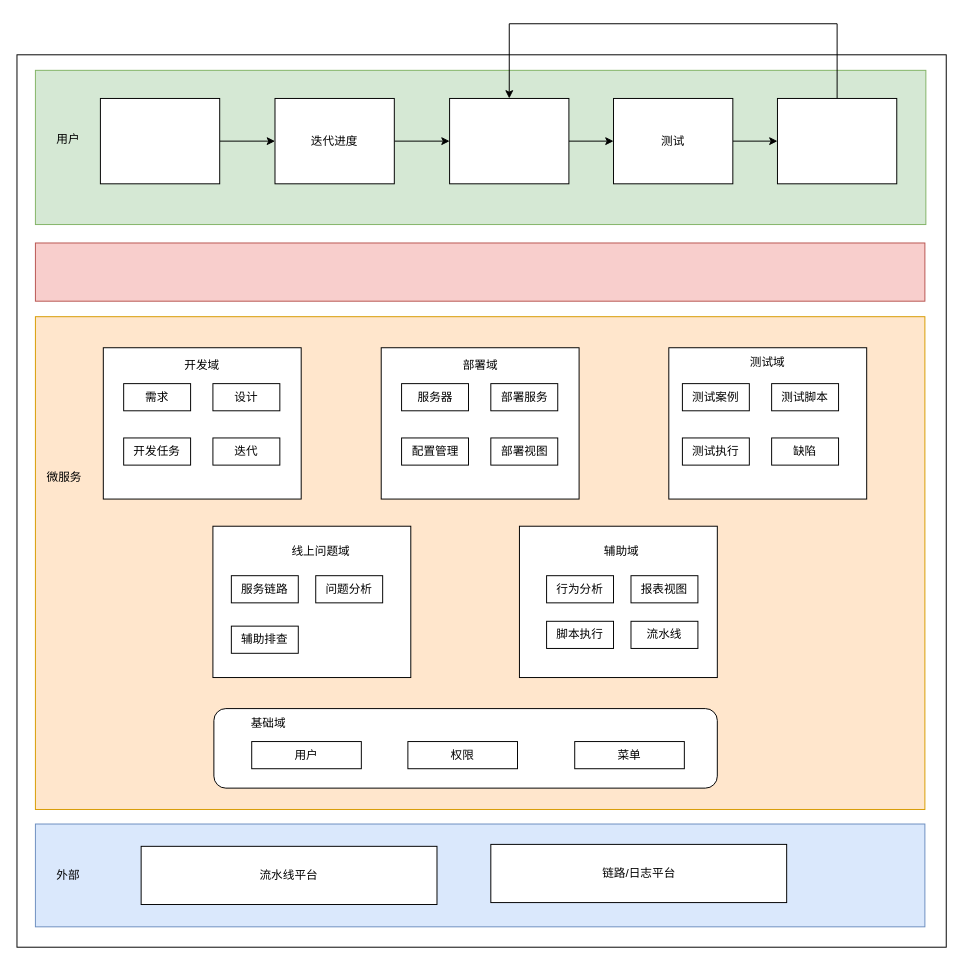
The diagram is 963 pixels wide and 964 high, and some of its shapes have lost their labels. Each missing label, with the centre of its shape:
分析/设计: the point at 159,140
前端网关: the point at 479,271
构建/部署: the point at 509,140
线上问题排查: the point at 836,140
